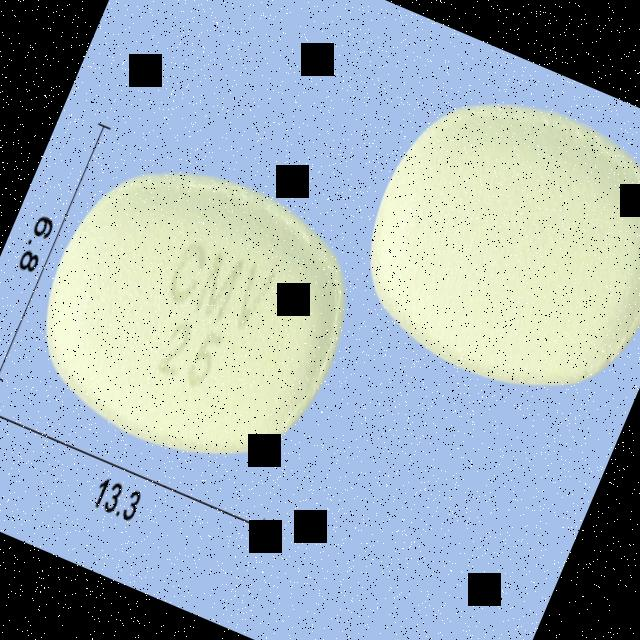Clocide: (5, 127, 382, 500)
